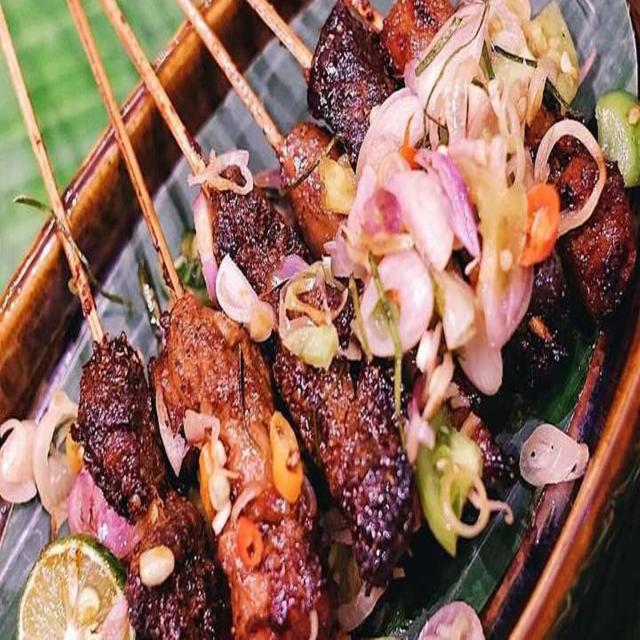Sate: (7, 8, 595, 572)
